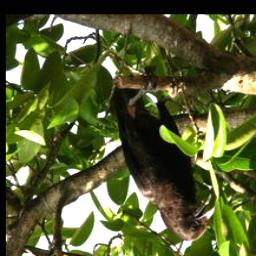Crow: (110, 75, 219, 246)
